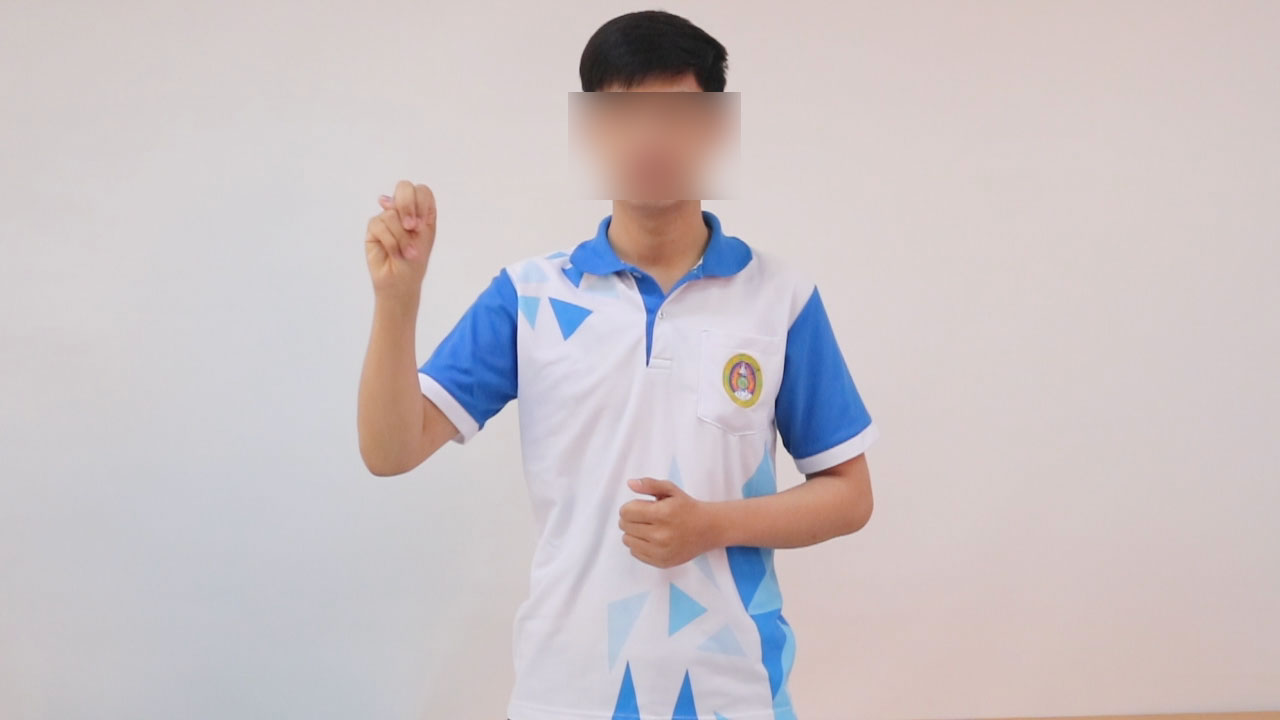nor: (352, 171, 446, 293)
